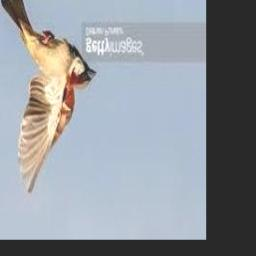Sparrow: (0, 0, 96, 193)
